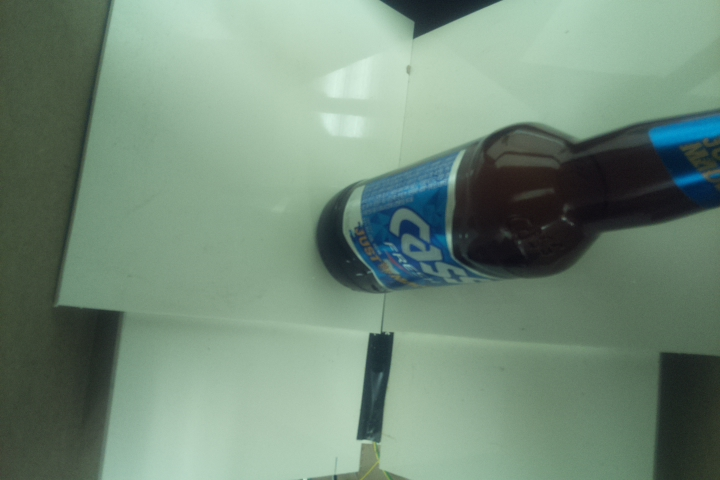makju: (315, 106, 720, 295)
